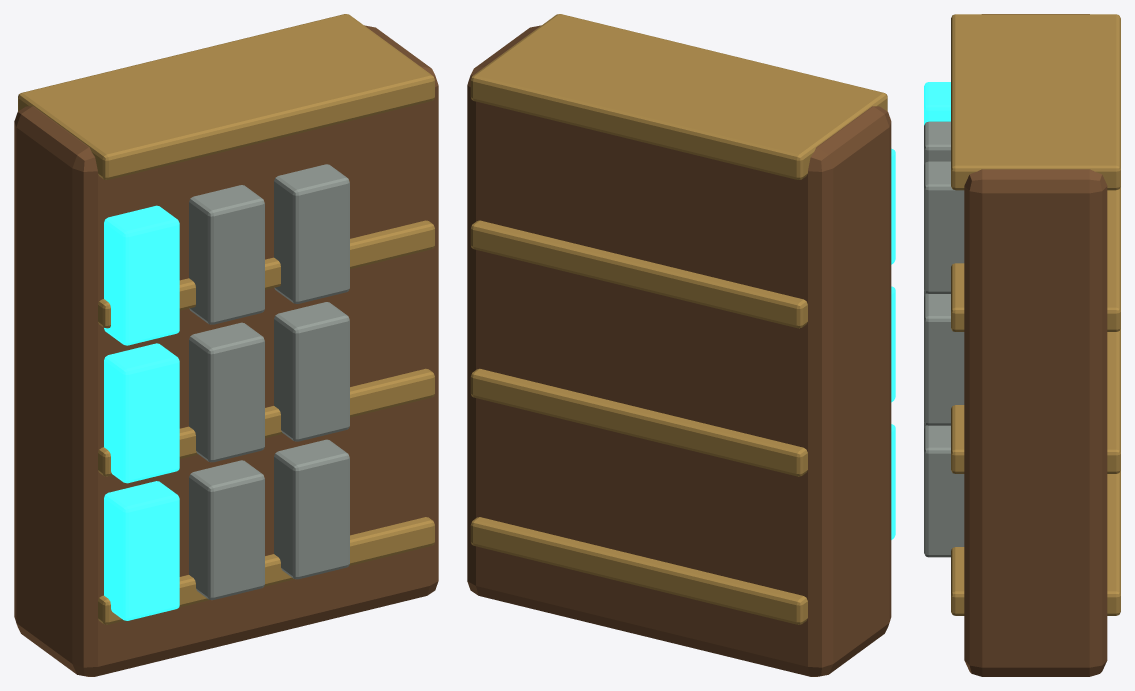
The model's file is Archive-Bookshelf.glb.
3 renders of one model, left to right at view 1: azimuth 30°, elevation 25°; view 2: azimuth 150°, elevation 25°; view 3: azimuth 270°, elevation 25°, orthographic. The views are drawn at different scales.
Visible parts, largest first — view 1: Bookshelf_Frame, Shelf.003, Data_Tome.002, Data_Tome, Data_Tome.001, Data_Tome.004, Data_Tome.003, Data_Tome.005, Data_Tome.006, Data_Tome.007, Data_Tome.008, Shelf (+2 smaller); view 2: Bookshelf_Frame, Shelf.003, Shelf, Shelf.001, Shelf.002; view 3: Bookshelf_Frame, Shelf.003, Data_Tome.008, Data_Tome.002, Data_Tome.005, Shelf, Shelf.001, Shelf.002, Data_Tome.007, Data_Tome.006.
Boxes of the visible parts, bbox=[...] form: Bookshelf_Frame: bbox=[14, 25, 438, 676]; Shelf.003: bbox=[18, 14, 434, 179]; Data_Tome.002: bbox=[274, 439, 349, 579]; Data_Tome: bbox=[104, 481, 179, 620]; Data_Tome.001: bbox=[189, 460, 264, 599]; Data_Tome.004: bbox=[189, 322, 264, 462]; Data_Tome.003: bbox=[104, 343, 179, 483]; Data_Tome.005: bbox=[274, 302, 349, 441]; Data_Tome.006: bbox=[104, 205, 179, 345]; Data_Tome.007: bbox=[189, 185, 264, 324]; Data_Tome.008: bbox=[274, 164, 349, 303]; Shelf: bbox=[98, 517, 434, 624]; Bookshelf_Frame: bbox=[467, 25, 891, 676]; Shelf.003: bbox=[470, 14, 887, 179]; Shelf: bbox=[470, 517, 807, 624]; Shelf.001: bbox=[470, 368, 807, 476]; Shelf.002: bbox=[470, 220, 807, 328]; Bookshelf_Frame: bbox=[964, 14, 1107, 676]; Shelf.003: bbox=[951, 14, 1120, 190]; Data_Tome.008: bbox=[924, 161, 964, 293]; Data_Tome.002: bbox=[924, 425, 964, 557]; Data_Tome.005: bbox=[924, 293, 964, 425]; Shelf: bbox=[951, 470, 1120, 615]; Shelf.001: bbox=[951, 328, 1120, 473]; Shelf.002: bbox=[951, 186, 1120, 331]; Data_Tome.007: bbox=[924, 121, 950, 164]; Data_Tome.006: bbox=[924, 82, 950, 125].
Bounding box in the file's own units: 1.8 × 2.51 × 0.88.
